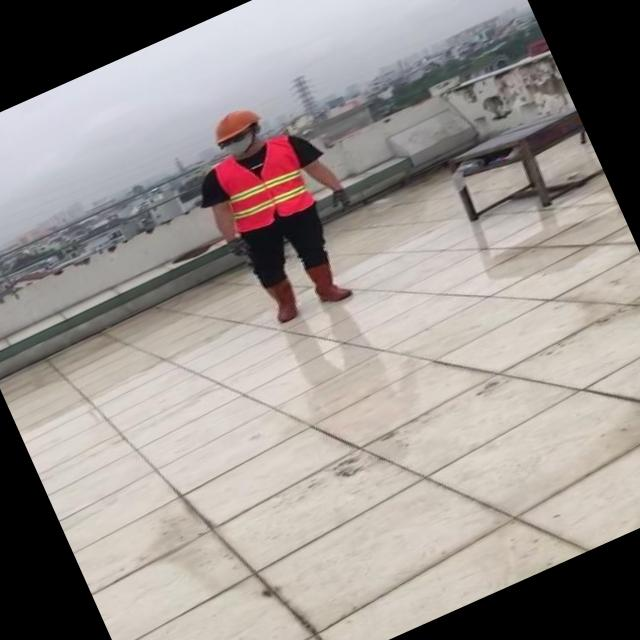hard_hat: (204, 101, 264, 145)
safety_vest: (210, 133, 314, 234)
vehicle: (166, 78, 391, 342)
work_boots: (304, 251, 358, 308), (261, 277, 305, 326)
